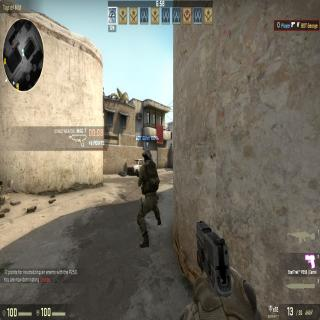CT-Body: (138, 148, 160, 247)
CT-Head: (142, 149, 152, 164)
